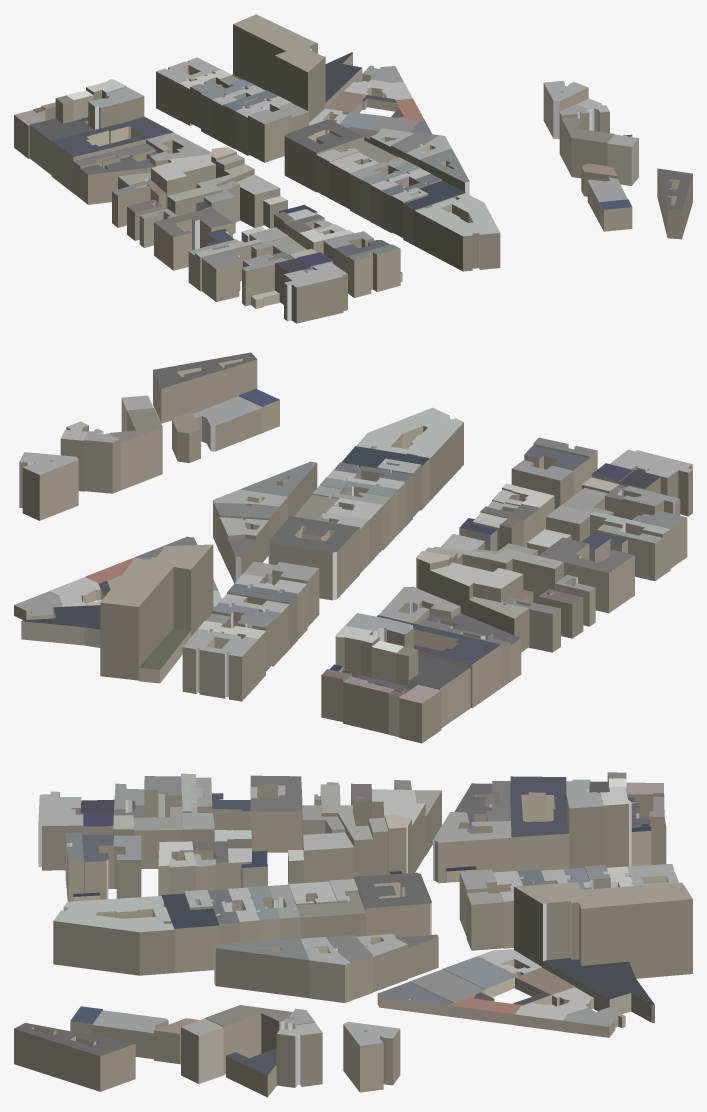
The picture shows the model from 3 angles, top to bottom: view 1: azimuth 30°, elevation 25°; view 2: azimuth 150°, elevation 25°; view 3: azimuth 270°, elevation 25°; orthographic projection. The views are drawn at different scales.
Parts seen in each view (by area): view 1: tuile; view 2: tuile; view 3: tuile.
Boxes of the visible parts, box(x1,y1,x2,y2) form: tuile: box(14, 14, 692, 323); tuile: box(14, 352, 692, 743); tuile: box(14, 772, 692, 1097).
Size of the model in its own units: 269 by 34.63 by 275.
